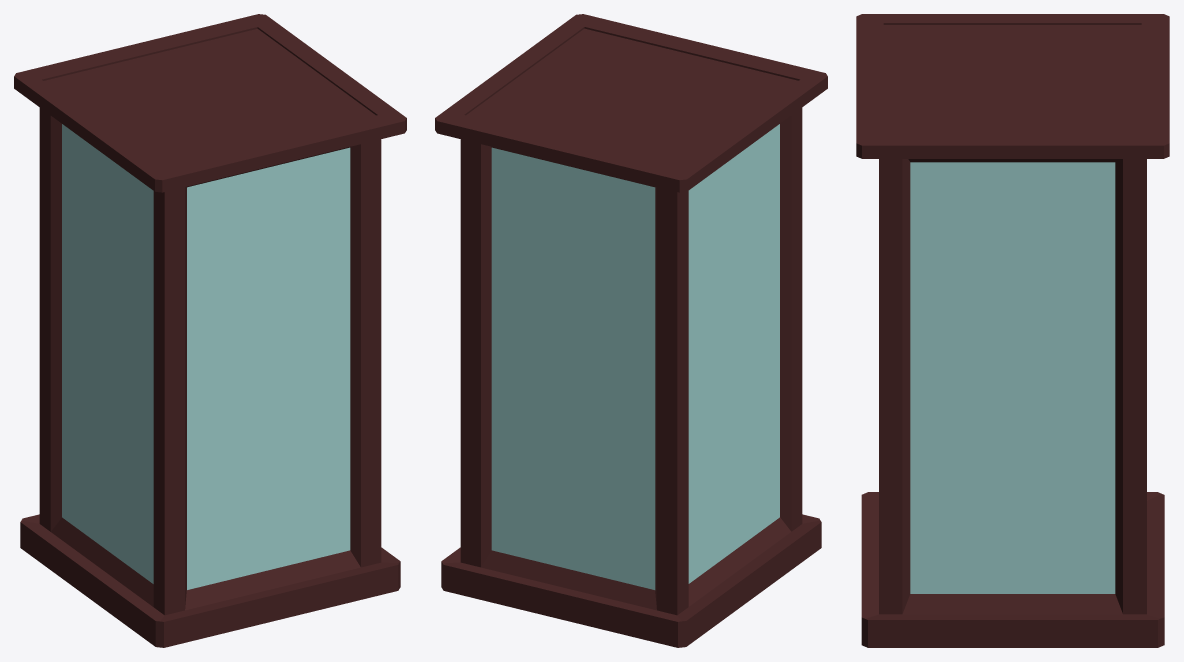
The model's file is standTest.fbx.
3 views of the same model, side by side, from view 1: azimuth 30°, elevation 25°; view 2: azimuth 150°, elevation 25°; view 3: azimuth 270°, elevation 25° (orthographic). The views are drawn at different scales.
Visible parts, largest first — view 1: Base, Top; view 2: Base, Top; view 3: Base, Top.
Boxes of the visible parts, x1,y1,x2,y2 form: Base: [20, 107, 400, 647]; Top: [14, 14, 406, 192]; Base: [441, 107, 821, 647]; Top: [435, 14, 827, 192]; Base: [861, 159, 1164, 647]; Top: [856, 14, 1169, 158].
Bounding box in the file's own units: 232 × 415 × 234.
